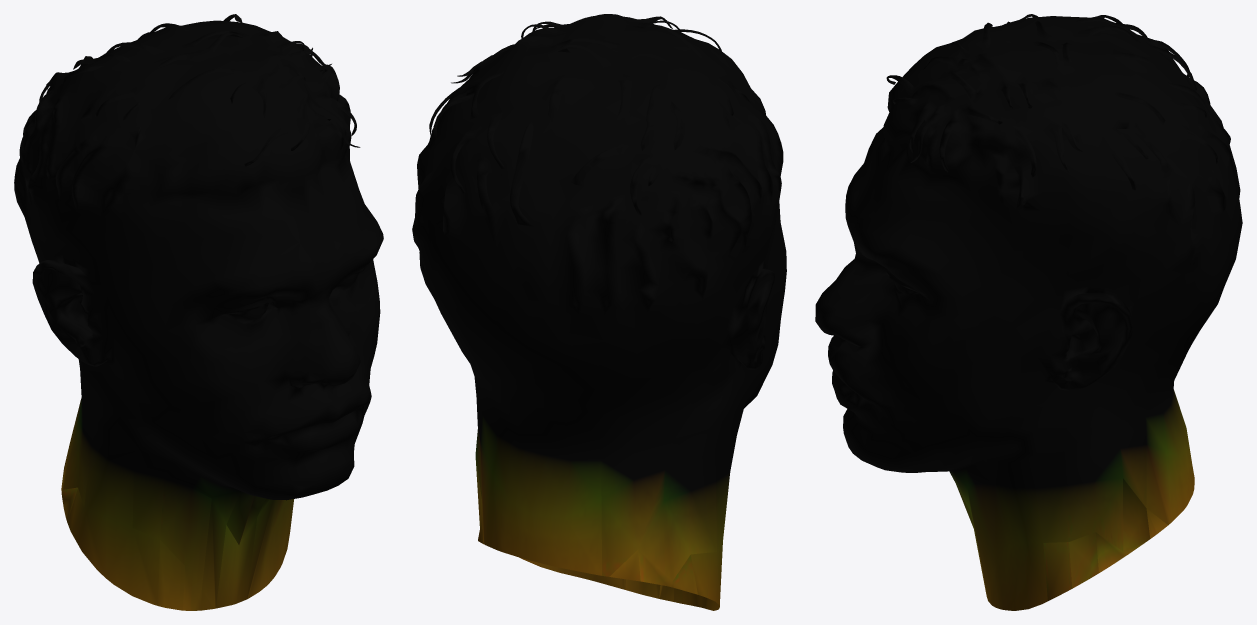
File: MEL_36.glb
3 renders of one model, left to right at view 1: azimuth 30°, elevation 25°; view 2: azimuth 150°, elevation 25°; view 3: azimuth 270°, elevation 25°, orthographic. The views are drawn at different scales.
Parts seen in each view (by area): view 1: tripo_node_e523be64-f406-41cc-8551-5ca6a7f2fc41; view 2: tripo_node_e523be64-f406-41cc-8551-5ca6a7f2fc41; view 3: tripo_node_e523be64-f406-41cc-8551-5ca6a7f2fc41.
Part boxes in pixels (x1,y1,x2,y2): tripo_node_e523be64-f406-41cc-8551-5ca6a7f2fc41: (14,14,383,610); tripo_node_e523be64-f406-41cc-8551-5ca6a7f2fc41: (412,14,786,610); tripo_node_e523be64-f406-41cc-8551-5ca6a7f2fc41: (815,14,1242,610).
Bounding box in the file's own units: 0.19 × 0.3296 × 0.2282.
Materials: 1 (1 with a texture image).
